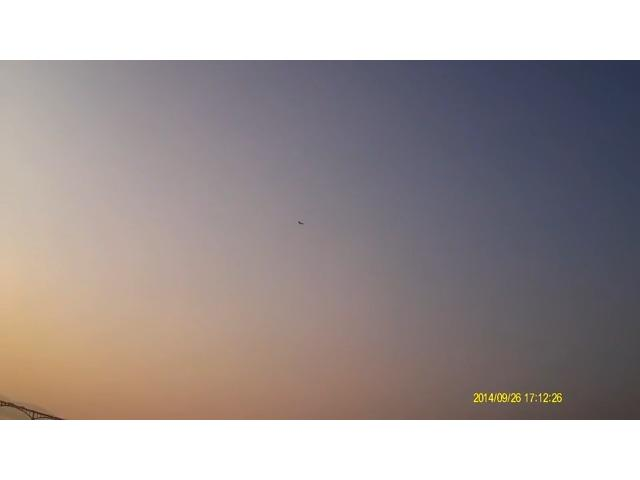Anti-Drone: (292, 212, 312, 233)
